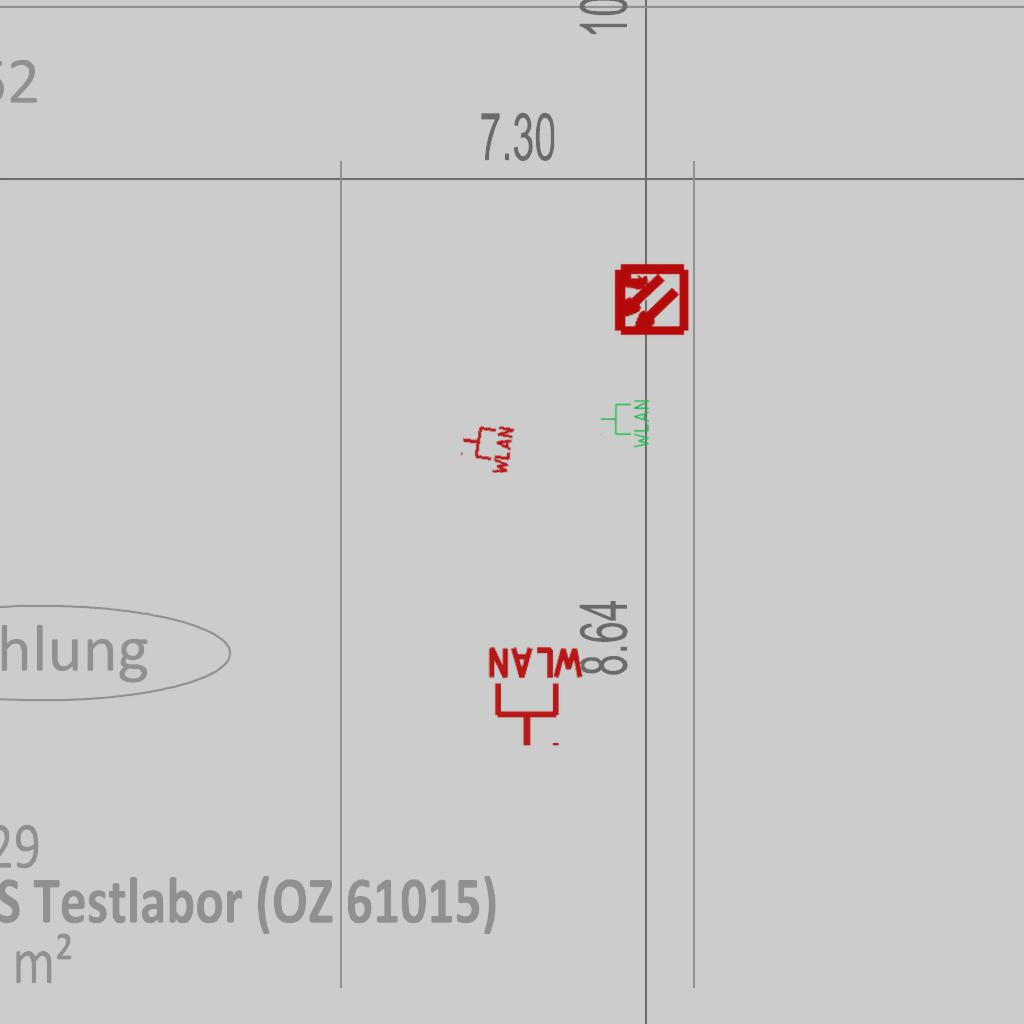OT_Multisensormelder_(Kombination_RMO_WMD): (593, 243, 706, 356)
WLAN: (484, 645, 588, 750), (456, 418, 516, 478), (599, 398, 651, 450)
